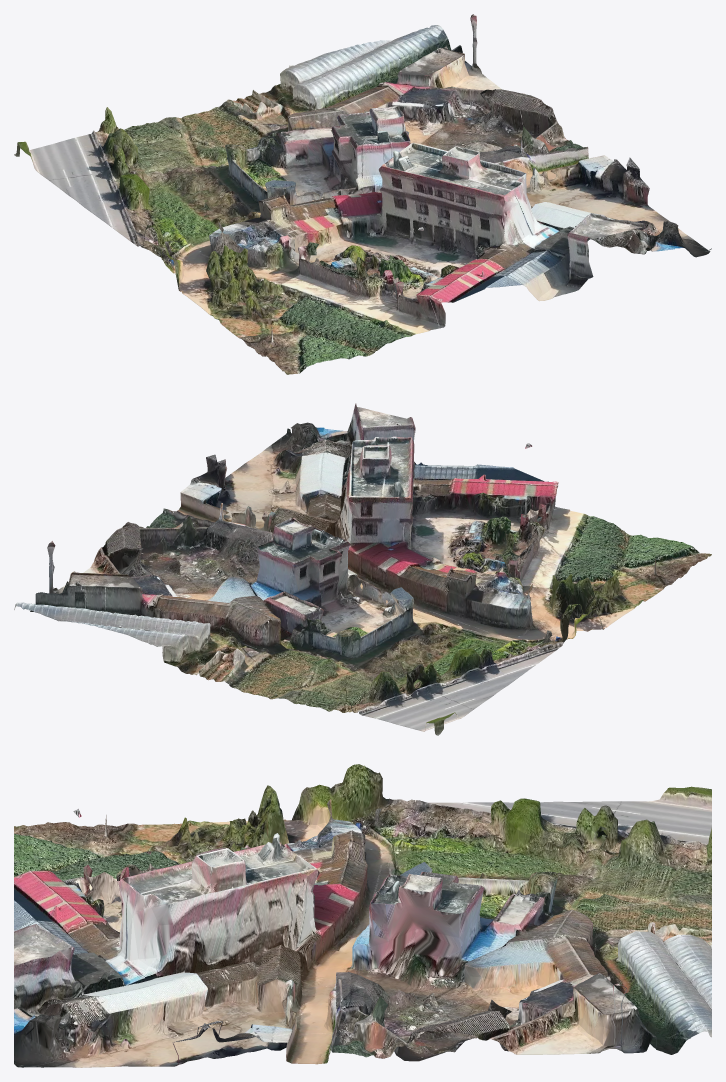
The model's file is BlockBY_L19_162.glb.
The picture shows the model from 3 angles, top to bottom: view 1: azimuth 30°, elevation 25°; view 2: azimuth 150°, elevation 25°; view 3: azimuth 270°, elevation 25°; orthographic projection. The views are drawn at different scales.
Parts seen in each view (by area): view 1: rtc; view 2: rtc; view 3: rtc.
Boxes of the visible parts, bbox=[...] form: rtc: bbox=[14, 14, 711, 374]; rtc: bbox=[14, 403, 711, 735]; rtc: bbox=[14, 764, 711, 1067].
Size of the model in its own units: 73.94 by 17.05 by 82.71.
Materials: 5 (5 with a texture image).
